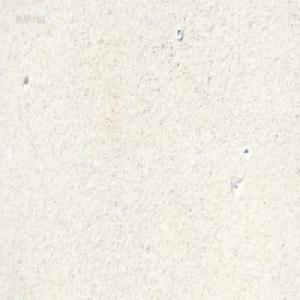Washer: (175, 26, 183, 41)
